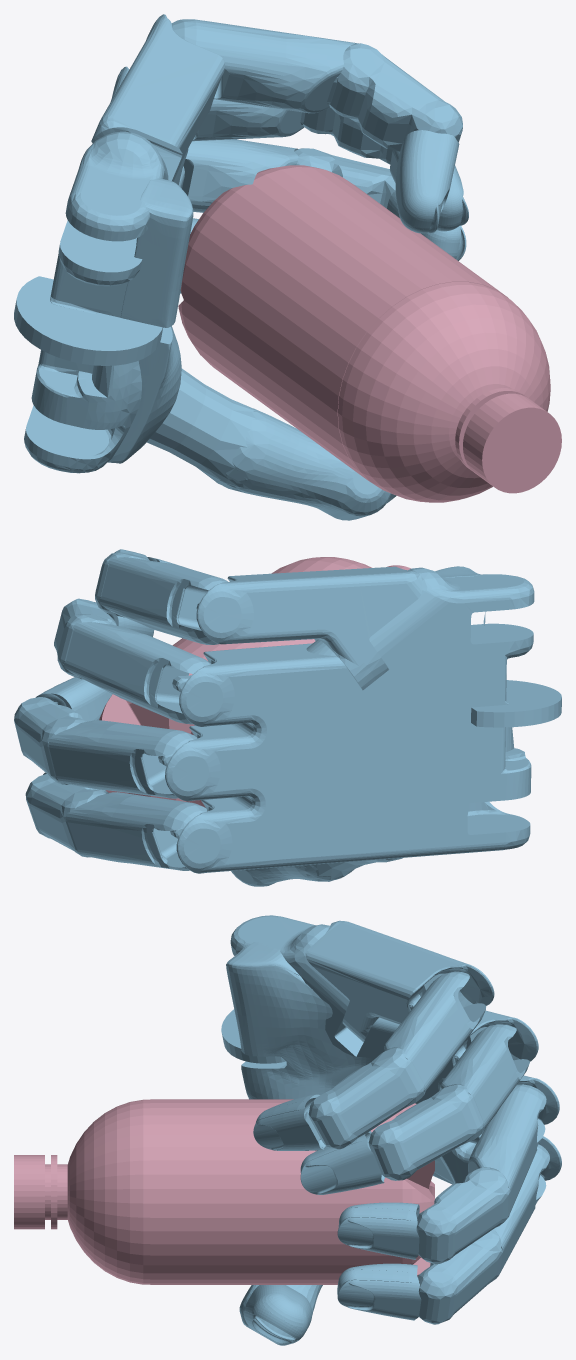
3 views of the same model, one above another, from view 1: azimuth 30°, elevation 25°; view 2: azimuth 150°, elevation 25°; view 3: azimuth 270°, elevation 25° (orthographic). The views are drawn at different scales.
Visible parts, largest first — view 1: world; view 2: world; view 3: world.
Boxes of the visible parts, x1,y1,x2,y2 form: world: [14, 14, 561, 520]; world: [14, 549, 561, 886]; world: [14, 915, 561, 1345].
Size of the model in its own units: 0.151 by 0.1255 by 0.1776.
